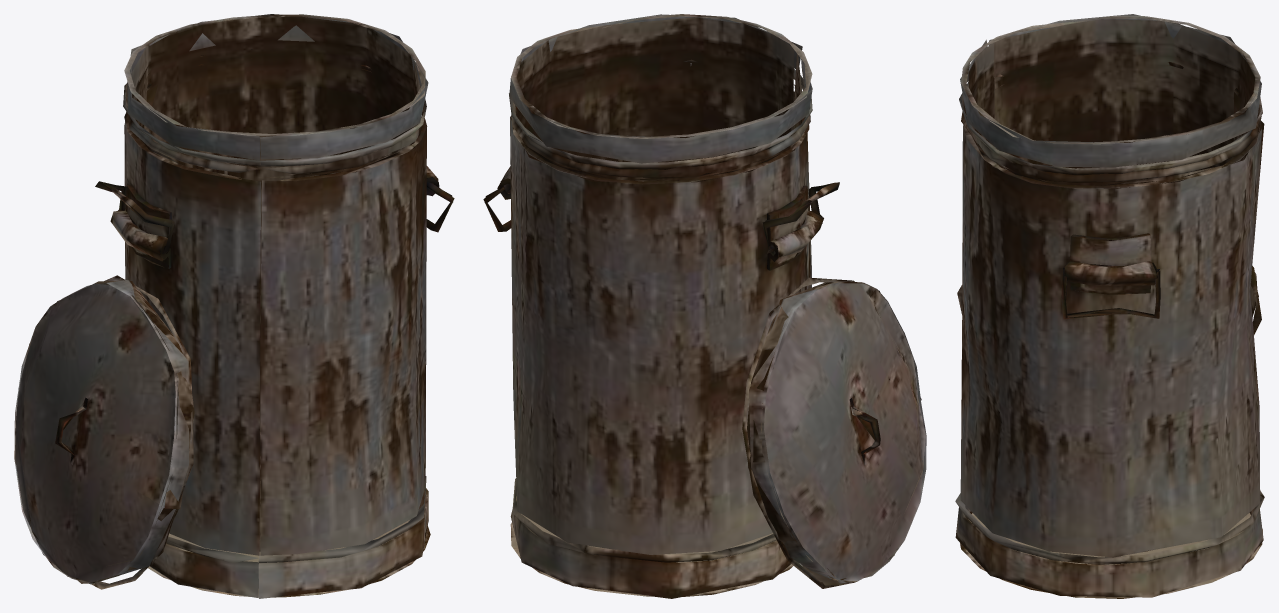
File: trash_can.glb
3 views of the same model, side by side, from view 1: azimuth 30°, elevation 25°; view 2: azimuth 150°, elevation 25°; view 3: azimuth 270°, elevation 25° (orthographic).
Visible parts, largest first — view 1: trash_can; view 2: trash_can; view 3: trash_can.
Boxes of the visible parts, left/top/right/bottom form: trash_can: left=14, top=14, right=454, bottom=598; trash_can: left=483, top=14, right=926, bottom=598; trash_can: left=955, top=14, right=1264, bottom=598.
Size of the model in its own units: 0.7731 by 0.9065 by 0.5562.
Materials: 2 (2 with a texture image).
